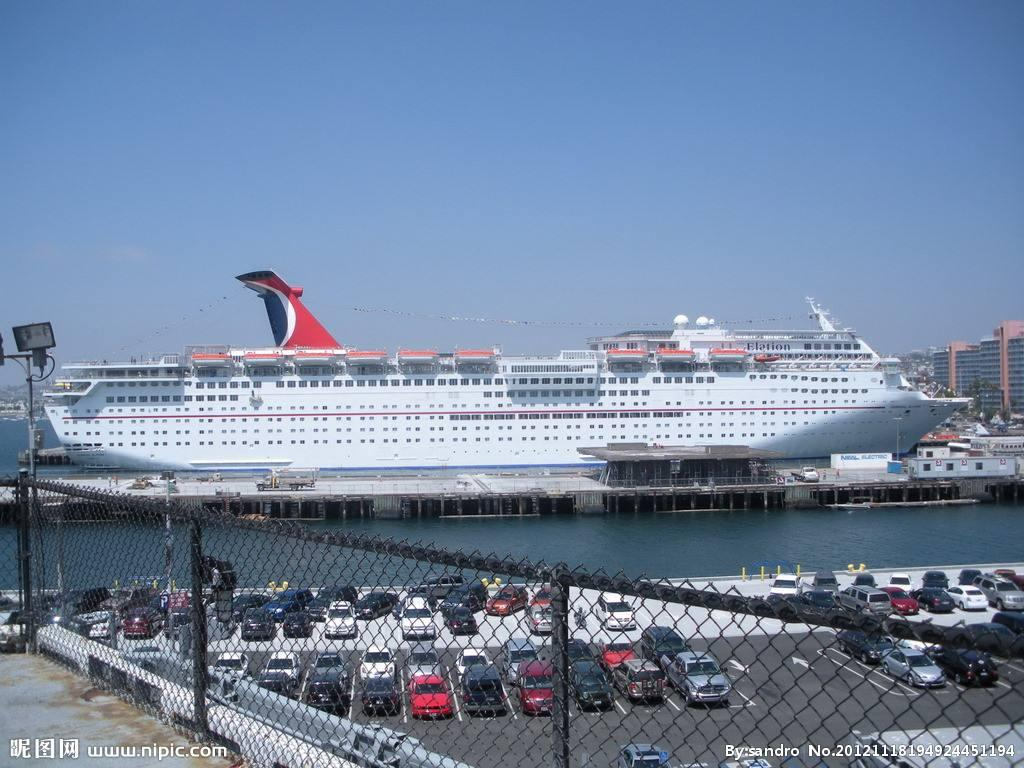youlun: (43, 264, 979, 469)
